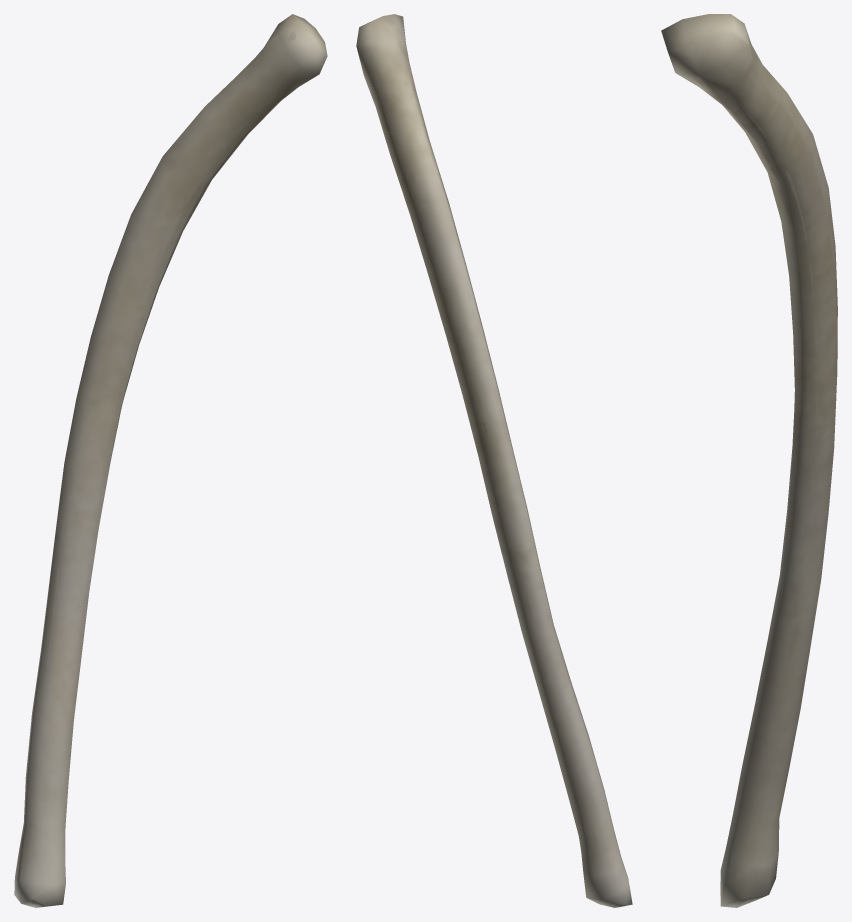
The model's file is Rib R05.fbx.
3 renders of one model, left to right at view 1: azimuth 30°, elevation 25°; view 2: azimuth 150°, elevation 25°; view 3: azimuth 270°, elevation 25°, orthographic. The views are drawn at different scales.
Visible parts, largest first — view 1: Rib R05 low, Rib R05; view 2: Rib R05 low, Rib R05; view 3: Rib R05 low, Rib R05.
Part boxes in pixels (<box>): Rib R05 low: <box>14,14,327,907</box>; Rib R05: <box>23,32,296,904</box>; Rib R05 low: <box>356,14,632,907</box>; Rib R05: <box>368,24,622,869</box>; Rib R05 low: <box>661,14,837,907</box>; Rib R05: <box>693,24,836,900</box>.
Bounding box in the file's own units: 2.21 × 6.2 × 0.9561.
1 material, 1 textured.
